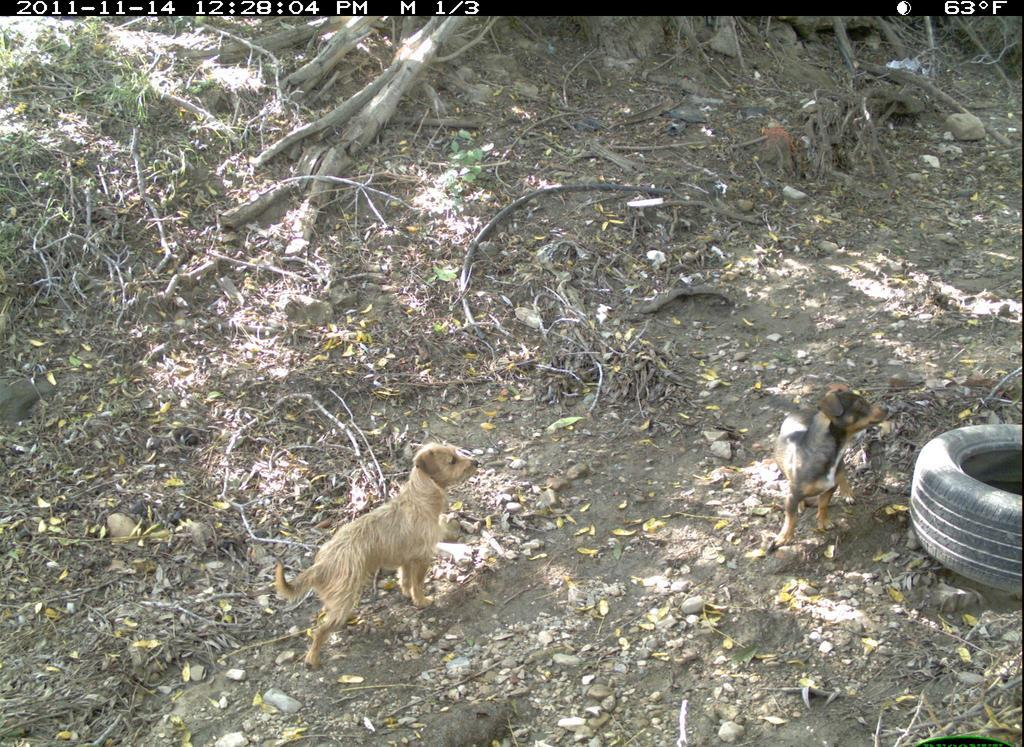dog: (268, 424, 481, 664), (760, 388, 889, 556)
